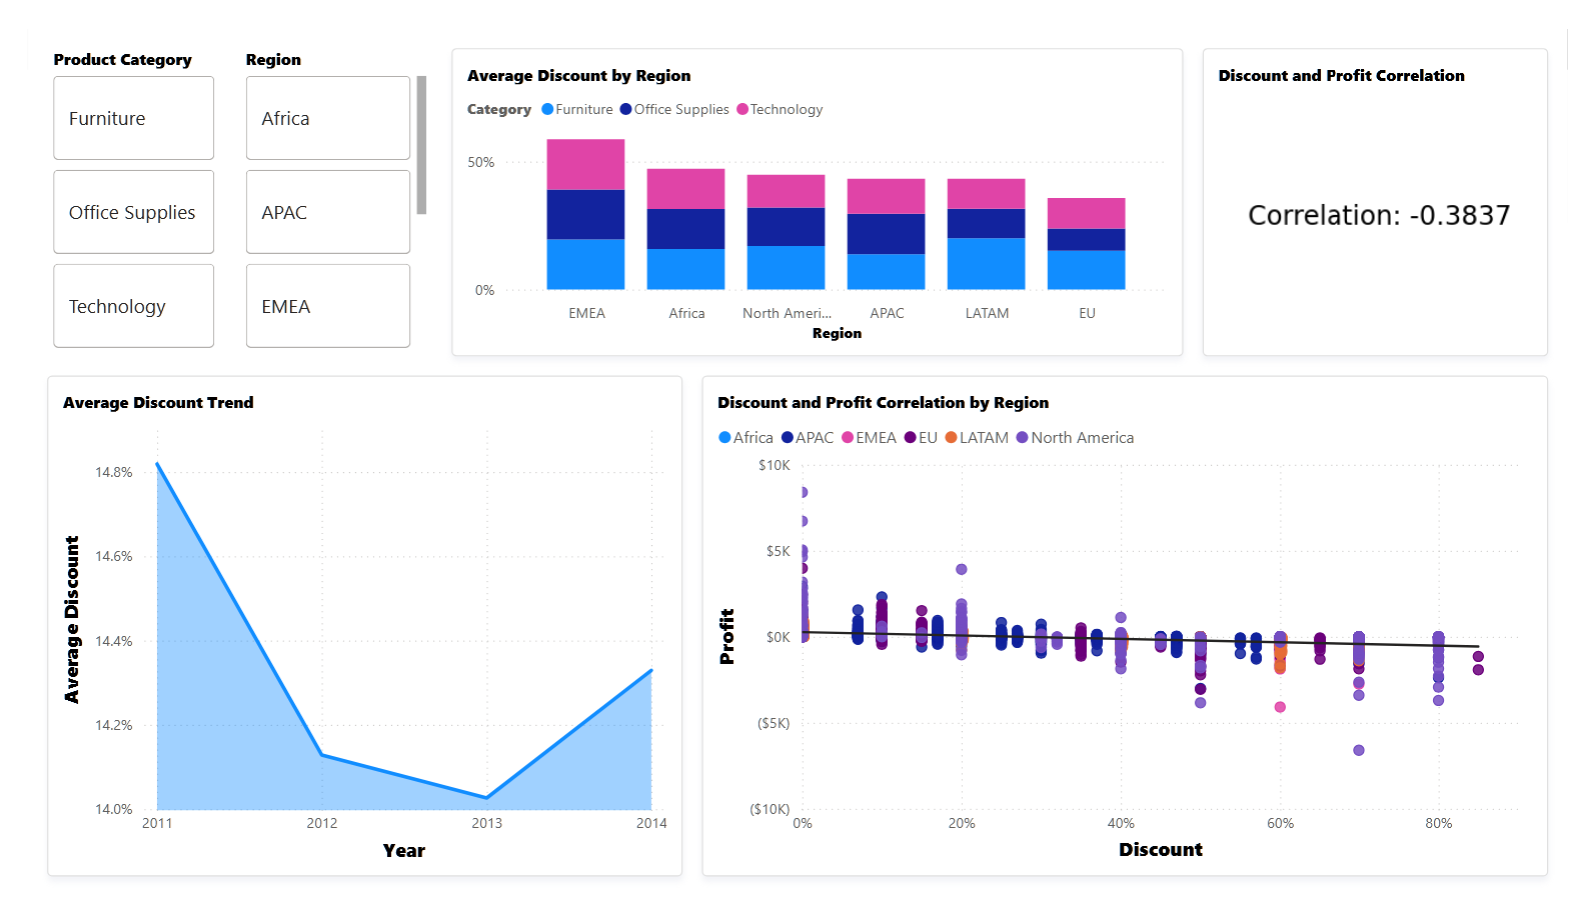

What the dashboard file says about the page in this screenshot:
{"tool":"powerbi","page":{"name":"Discount & Profitability","canvas":[1280,720],"ordinal":4},"visuals":[{"type":"scatterChart","title":"Discount and Profit Correlation by Region","fields":{"X":["superstore.Discount"],"Y":["superstore.Profit"],"Series":["superstore.Market2"]},"box":[560,288,704,416],"z":0},{"type":"columnChart","title":"Average Discount by Region","fields":{"Y":["Avg(superstore.Discount)"],"Category":["superstore.Market2"],"Series":["superstore.Category"]},"box":[352,16,608,256],"z":1000},{"type":"areaChart","title":"Average Discount Trend","fields":{"Category":["superstore.Order.Date.Variation.Date Hierarchy.Year","superstore.Order.Date.Variation.Date Hierarchy.Quarter","superstore.Order.Date.Variation.Date Hierarchy.Month","superstore.Order.Date.Variation.Date Hierarchy.Day"],"Y":["Avg(superstore.Discount)"]},"box":[16,288,528,416],"z":2000},{"type":"pythonVisual","title":"Discount and Profit Correlation","fields":{"Values":["superstore.Discount","superstore.Profit"]},"box":[976,16,288,256],"z":3000},{"type":"advancedSlicerVisual","title":"Product Category","fields":{"Values":["superstore.Category"]},"box":[16,16,144,256],"z":4000},{"type":"advancedSlicerVisual","title":"Region","fields":{"Values":["superstore.Market2"]},"box":[176,16,160,256],"z":5000}]}

Visuals, with their boxes in screenshot pixels (x1, y1, x2, y2), scaled from the page's 1280x720 canvas onto the 1596x923 screenshot:
"Discount and Profit Correlation by Region" scatterChart: Rect(698, 369, 1576, 902)
"Average Discount by Region" columnChart: Rect(439, 21, 1197, 349)
"Average Discount Trend" areaChart: Rect(20, 369, 678, 902)
"Discount and Profit Correlation" pythonVisual: Rect(1217, 21, 1576, 349)
"Product Category" advancedSlicerVisual: Rect(20, 21, 200, 349)
"Region" advancedSlicerVisual: Rect(219, 21, 419, 349)
